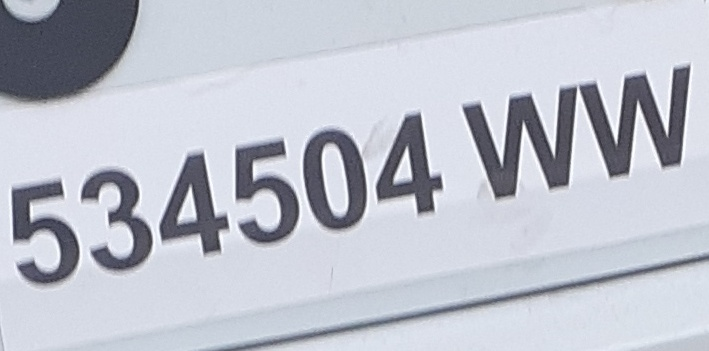0: (300, 124, 373, 234)
3: (80, 168, 158, 275)
4: (156, 151, 234, 262), (375, 110, 450, 222)
5: (7, 178, 81, 289), (232, 138, 304, 245)
w: (458, 83, 582, 203), (579, 63, 693, 180)
